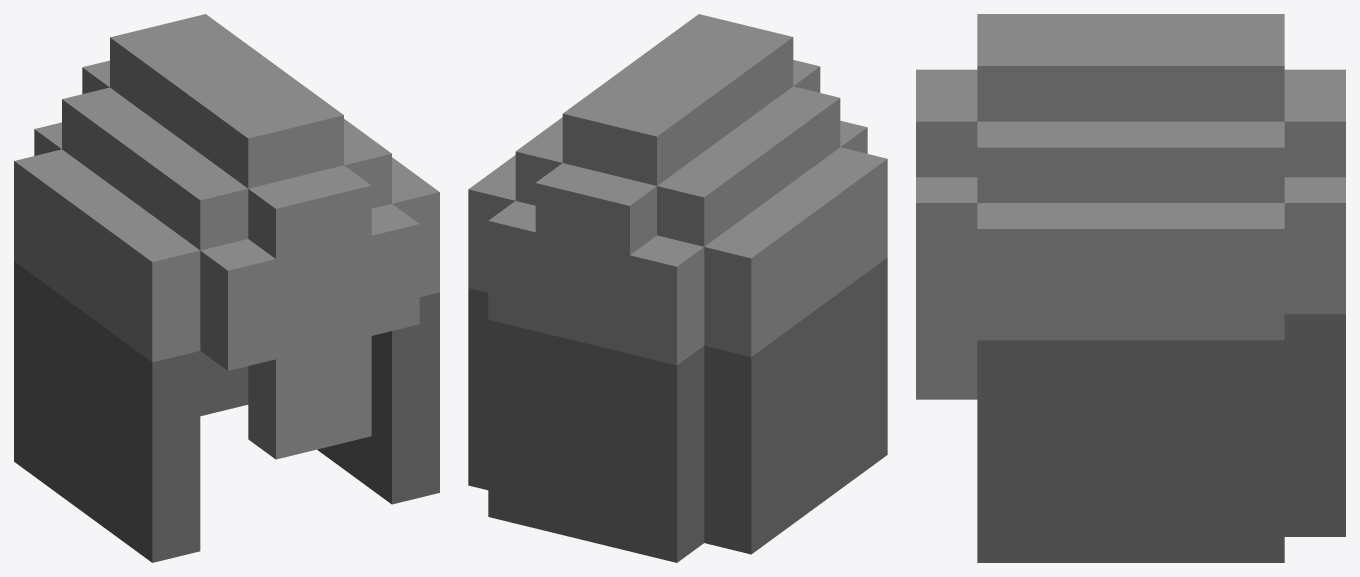
Rendered from character-208-helm_med_2d_ja.obj.
The picture shows the model from 3 angles, left to right: view 1: azimuth 30°, elevation 25°; view 2: azimuth 150°, elevation 25°; view 3: azimuth 270°, elevation 25°; orthographic projection. The views are drawn at different scales.
Parts seen in each view (by area): view 1: helm_med_2d_ja; view 2: helm_med_2d_ja; view 3: helm_med_2d_ja.
Boxes of the visible parts, x1,y1,x2,y2 form: helm_med_2d_ja: [14, 14, 439, 562]; helm_med_2d_ja: [468, 14, 887, 562]; helm_med_2d_ja: [916, 14, 1345, 562].
Size of the model in its own units: 0.6 by 0.8 by 0.7.
1 material, 1 textured.
